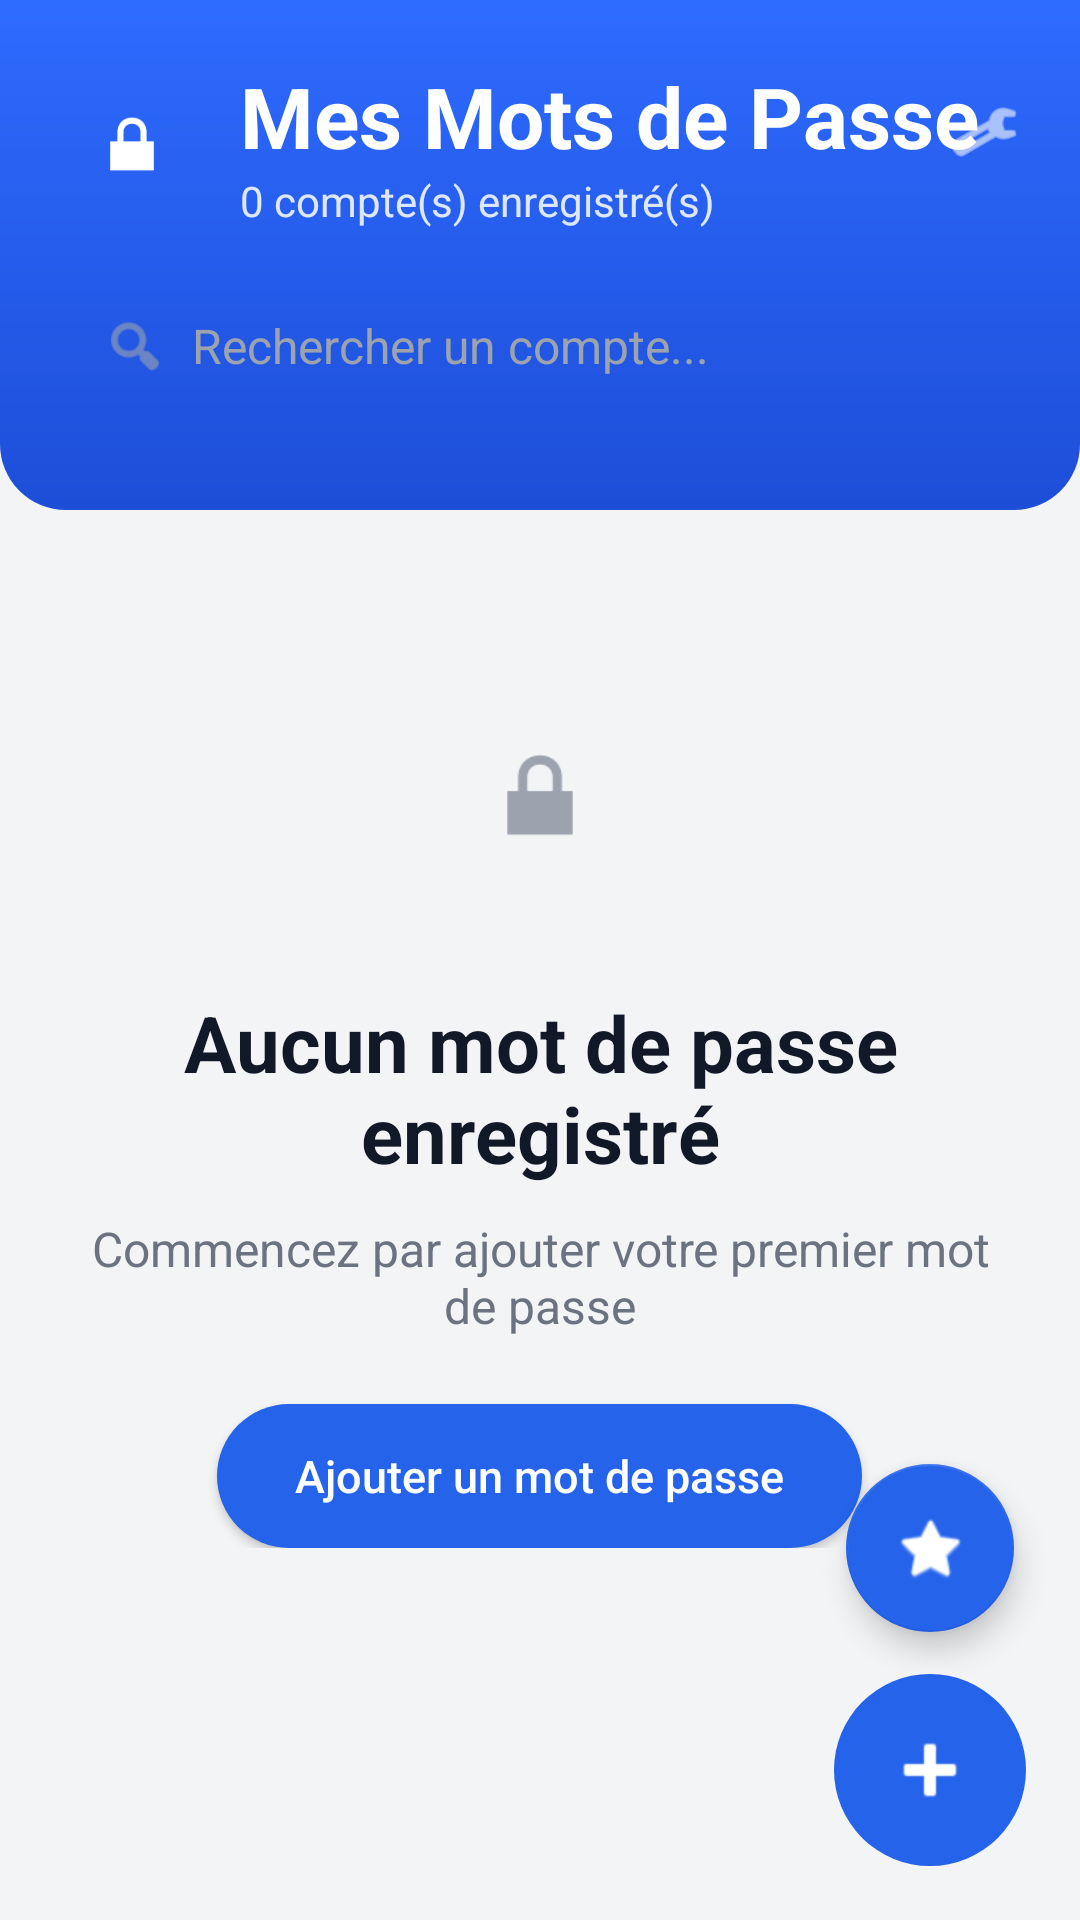

Icon click points for this 1080*1920 phone screenshot, format (x,y):
lock: (132,144), (540,795)
search: (135,346)
